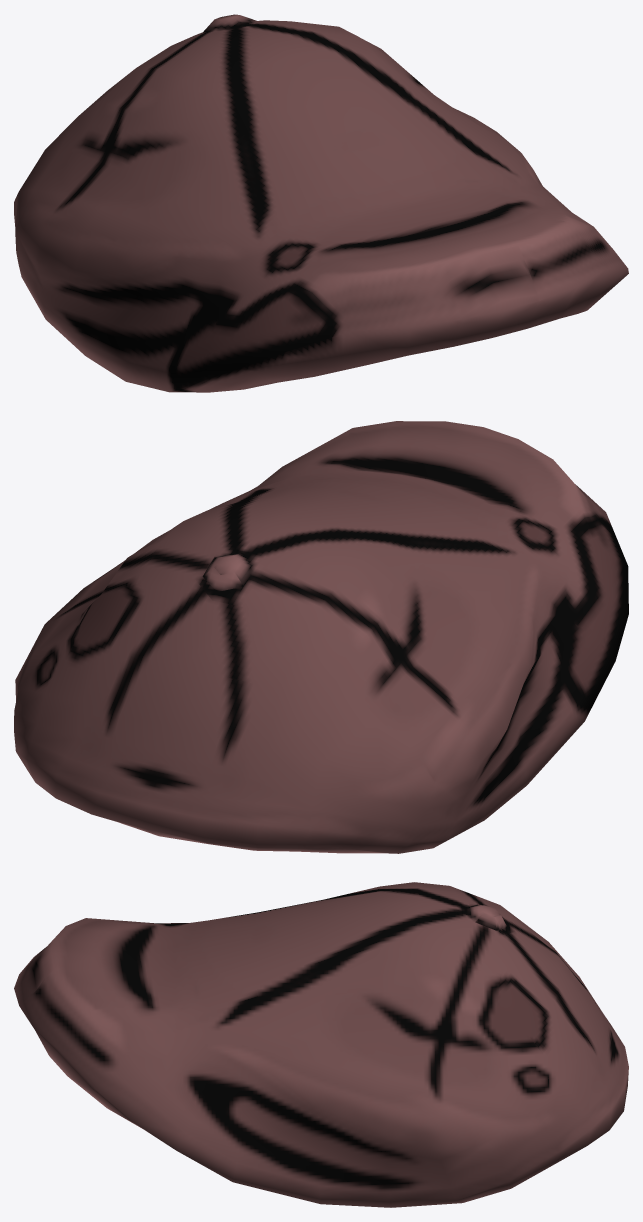
File: tank_p1.fbx
The picture shows the model from 3 angles, top to bottom: view 1: azimuth 30°, elevation 25°; view 2: azimuth 150°, elevation 25°; view 3: azimuth 270°, elevation 25°; orthographic projection. The views are drawn at different scales.
Visible parts, largest first — view 1: hero3_hat; view 2: hero3_hat; view 3: hero3_hat.
Part boxes in pixels (<box>): hero3_hat: <box>14,14,628,392</box>; hero3_hat: <box>14,421,628,853</box>; hero3_hat: <box>14,882,628,1207</box>.
Bounding box in the file's own units: 27.25 × 15.76 × 38.46.
